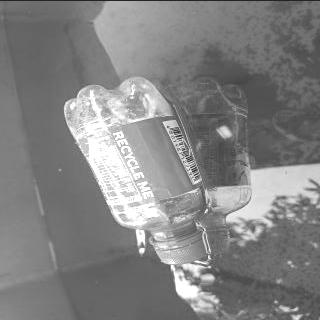bottle: (60, 74, 209, 264)
